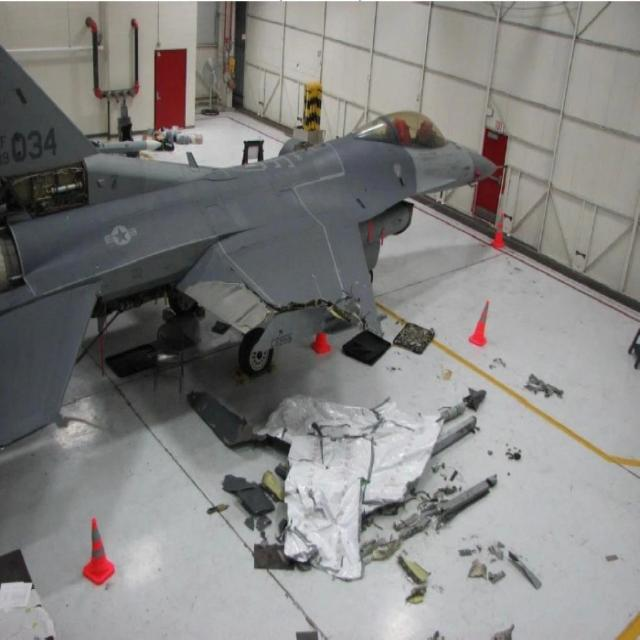MIL_Plane: (1, 44, 508, 448)
